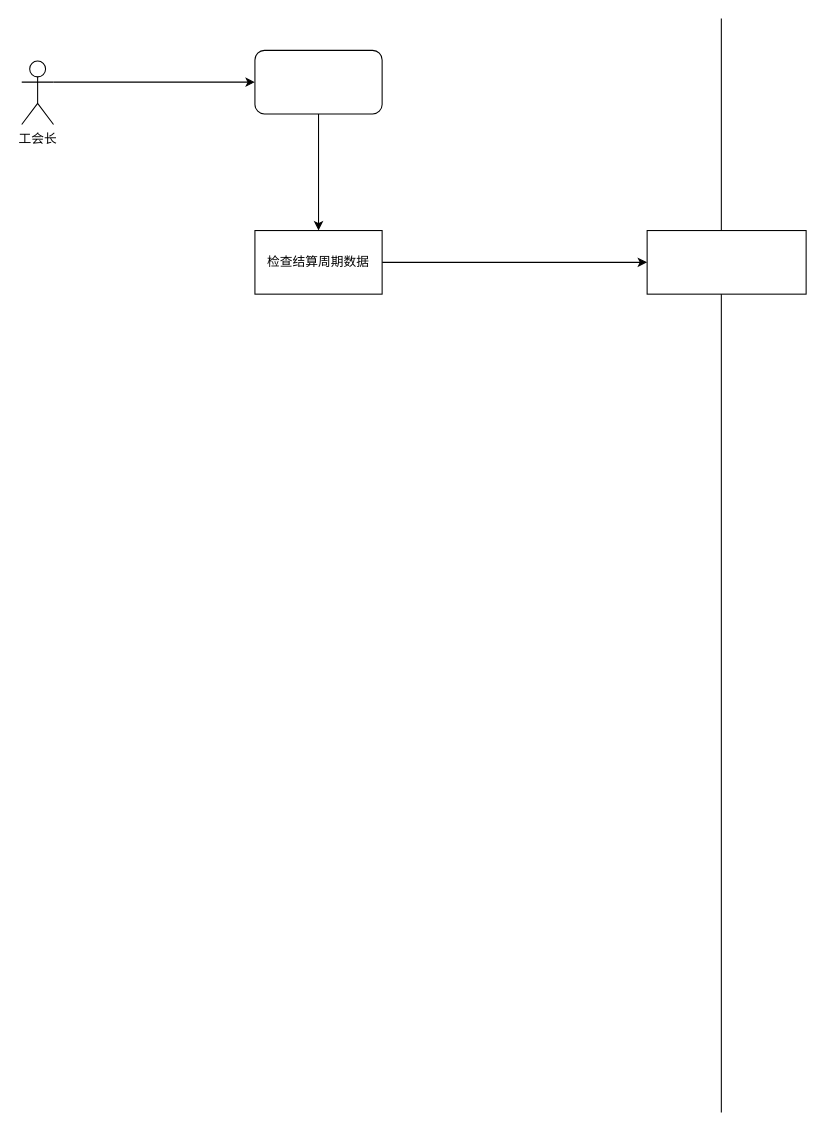
This 825x1132 diagram has some shape labels left out. The centre of each missing label's shape, as x and y in pixels:
"发起转账" goes at point 318,81.
"调用 获取工会结算周期数据" goes at point 726,261.
